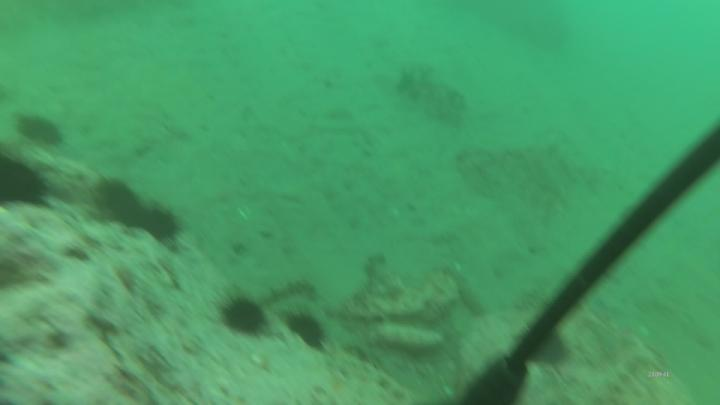echinus: (92, 174, 144, 231), (1, 153, 55, 207), (278, 307, 330, 353), (140, 199, 184, 247), (219, 295, 266, 339), (14, 109, 61, 147)
